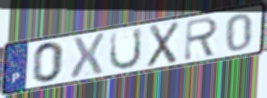0: (30, 40, 69, 85), (224, 12, 255, 53)
R: (182, 15, 221, 62)
U: (107, 26, 144, 72)
X: (69, 32, 106, 81), (145, 20, 181, 70)
